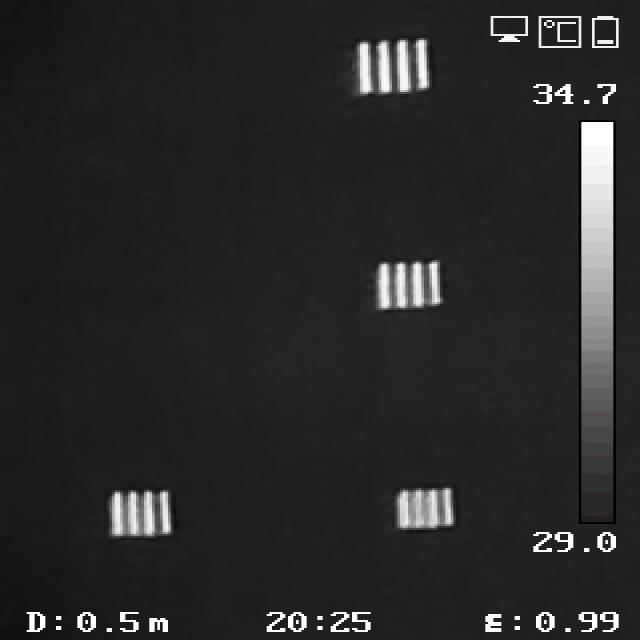Distinguishable 4-bar target: (353, 33, 439, 98), (99, 491, 184, 544), (370, 256, 450, 309)
threshold 4-bar target: (392, 489, 464, 531)
